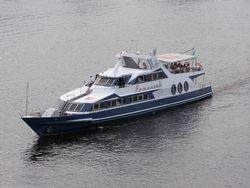yacht: (17, 37, 212, 139)
